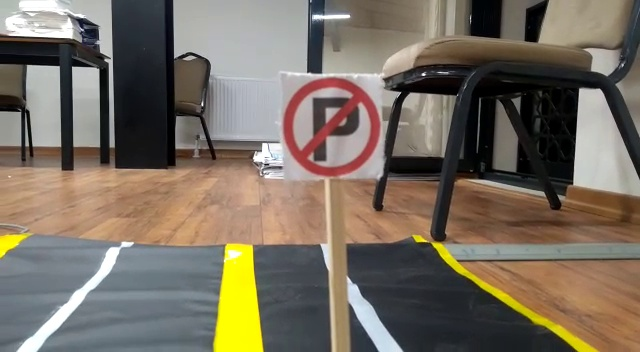park_yapilmaz: (277, 70, 386, 179)
